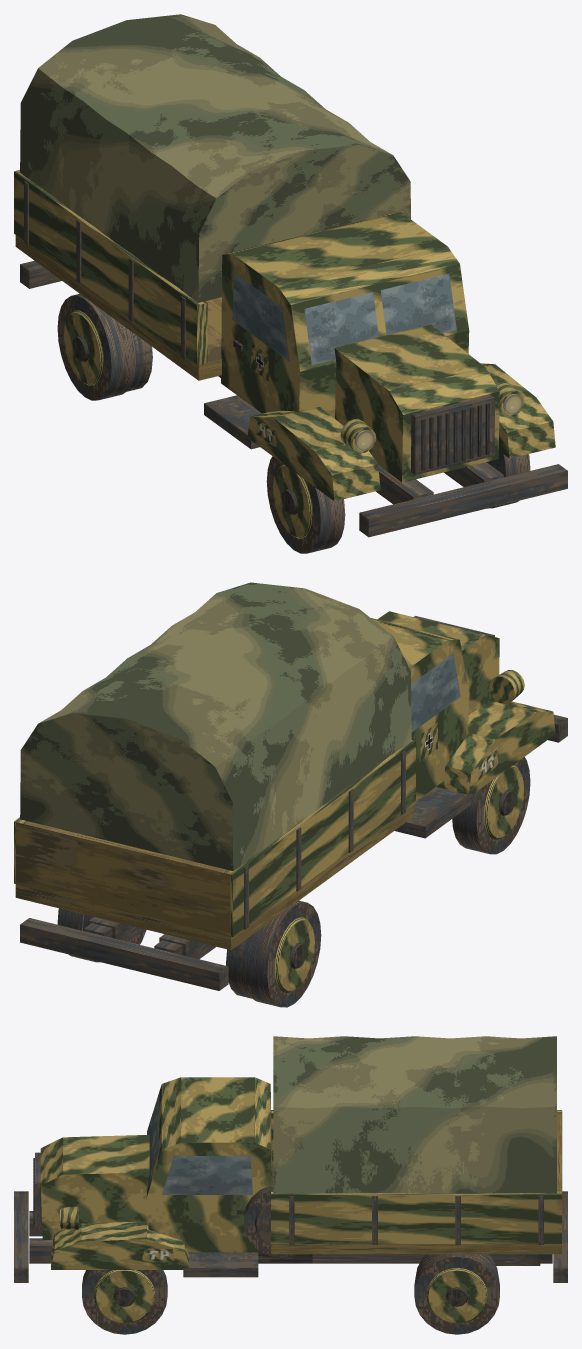
File: opel-blitz-cargo-own.glb
3 renders of one model, top to bottom at view 1: azimuth 30°, elevation 25°; view 2: azimuth 150°, elevation 25°; view 3: azimuth 270°, elevation 25°, orthographic. The views are drawn at different scales.
Visible parts, largest first — view 1: StretchedCanvasCover, CabShell, CabFendersAndLights, LoadBed, RoadWheelsAndSpare, CabGlazing, Chassis; view 2: StretchedCanvasCover, LoadBed, RoadWheelsAndSpare, CabFendersAndLights, CabShell, Chassis, CabGlazing; view 3: StretchedCanvasCover, CabShell, LoadBed, RoadWheelsAndSpare, CabFendersAndLights, Chassis, CabGlazing.
Part boxes in pixels (x1,y1,x2,y2): StretchedCanvasCover: (20,14,410,302); CabShell: (221,212,499,482); CabFendersAndLights: (204,340,555,501); LoadBed: (14,170,221,380); RoadWheelsAndSpare: (57,293,530,553); CabGlazing: (232,272,456,365); Chassis: (20,260,567,537); StretchedCanvasCover: (20,582,411,871); LoadBed: (14,740,415,950); RoadWheelsAndSpare: (57,757,530,1007); CabFendersAndLights: (394,670,555,838); CabShell: (371,611,499,800); Chassis: (20,714,567,990); CabGlazing: (411,653,460,732); StretchedCanvasCover: (273,1036,556,1193); CabShell: (35,1077,272,1252); LoadBed: (271,1110,562,1254); RoadWheelsAndSpare: (82,1183,499,1334); CabFendersAndLights: (33,1158,258,1277); Chassis: (14,1191,567,1282); CabGlazing: (147,1094,252,1194).
Size of what is drawn, in the model's own units: 2.2 by 2.9 by 6.
Materials: 1 (1 with a texture image).
